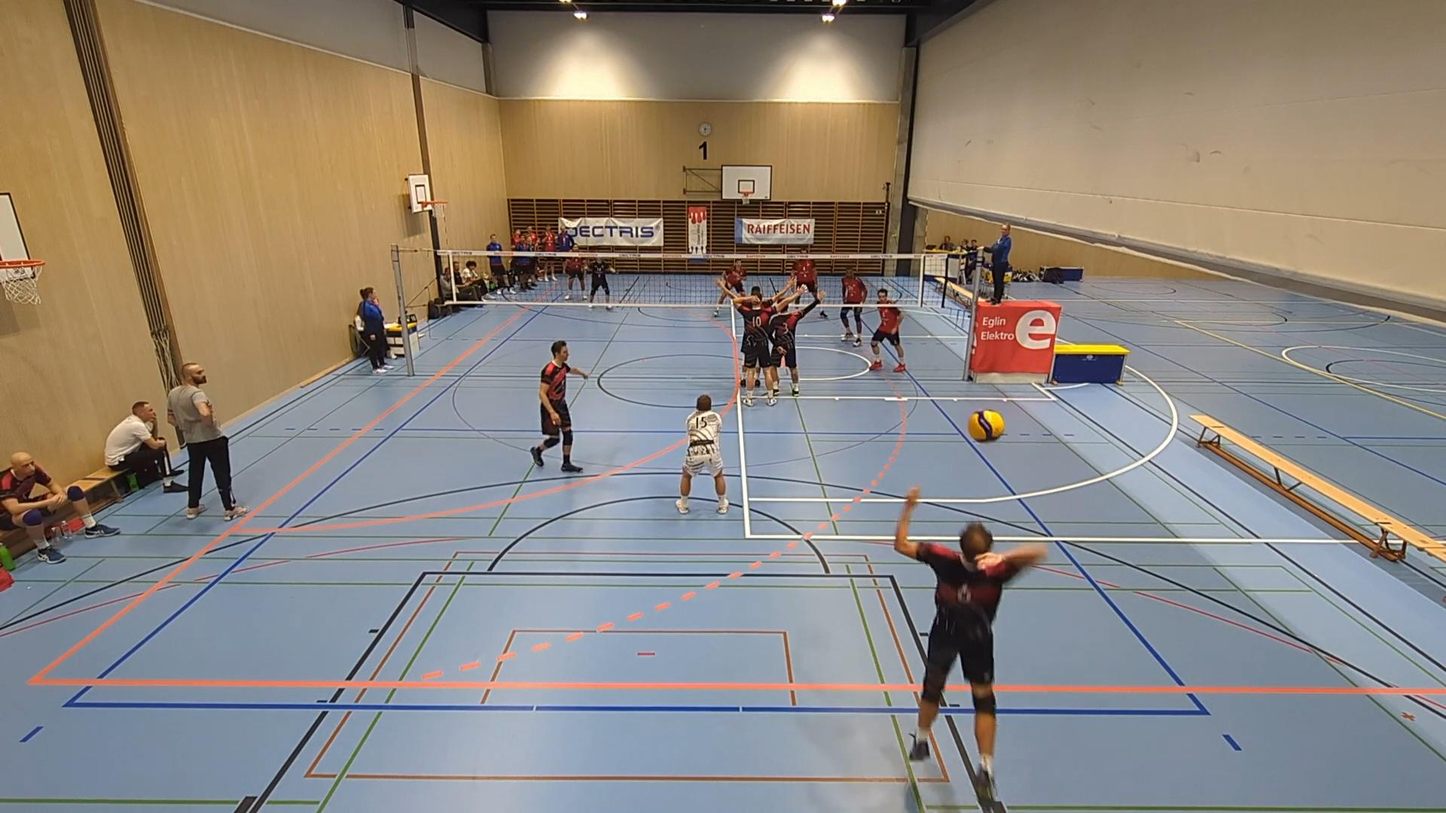Player: (531, 340, 587, 473), (716, 279, 774, 405), (676, 395, 728, 513), (770, 291, 823, 397), (870, 288, 906, 372), (767, 280, 801, 343), (840, 269, 866, 346), (713, 260, 746, 316), (589, 257, 612, 310), (791, 257, 819, 300), (564, 254, 584, 300)
Serve: (889, 482, 1052, 813)
ball: (962, 410, 1008, 444)
